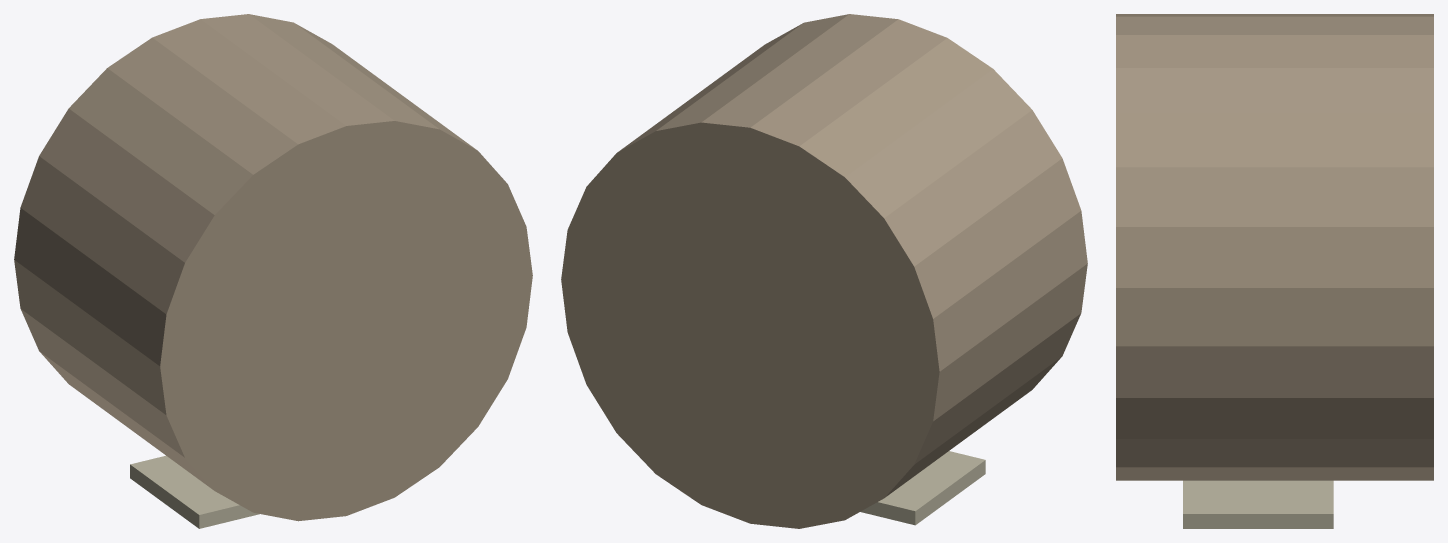
File: food_can.glb
3 renders of one model, left to right at view 1: azimuth 30°, elevation 25°; view 2: azimuth 150°, elevation 25°; view 3: azimuth 270°, elevation 25°, orthographic. The views are drawn at different scales.
Visible parts, largest first — view 1: world; view 2: world; view 3: world.
Boxes of the visible parts, left/top/right/bottom form: world: left=14, top=14, right=532, bottom=528; world: left=561, top=14, right=1087, bottom=528; world: left=1116, top=14, right=1433, bottom=528.
Size of the model in its own units: 0.56 by 0.57 by 0.38.
